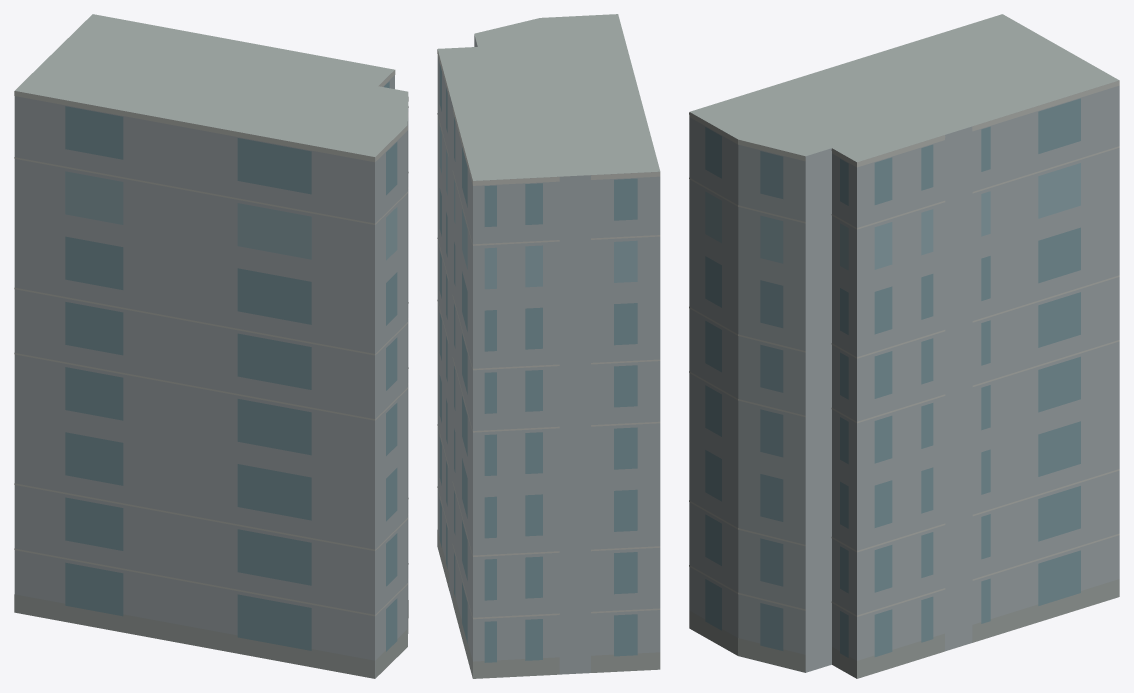
File: survey-upis-32970430.glb
3 renders of one model, left to right at view 1: azimuth 30°, elevation 25°; view 2: azimuth 150°, elevation 25°; view 3: azimuth 270°, elevation 25°, orthographic. The views are drawn at different scales.
Visible parts, largest first — view 1: survey-upis-32970430.tmp; view 2: survey-upis-32970430.tmp; view 3: survey-upis-32970430.tmp.
Part boxes in pixels (x1,y1,x2,y2): survey-upis-32970430.tmp: (14, 14, 408, 678); survey-upis-32970430.tmp: (437, 14, 660, 678); survey-upis-32970430.tmp: (689, 14, 1119, 678).
Size of the model in its own units: 15.05 by 24.4 by 18.44.
